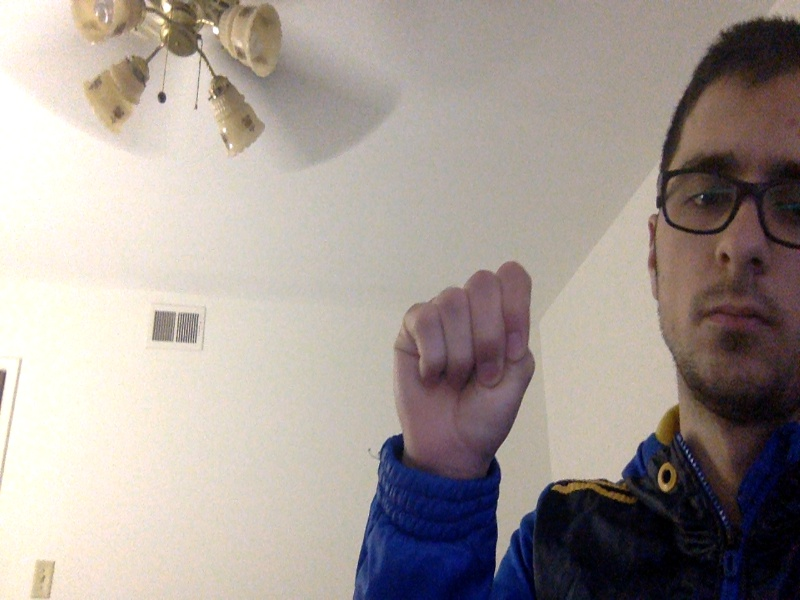0-hand: (395, 261, 539, 459)
